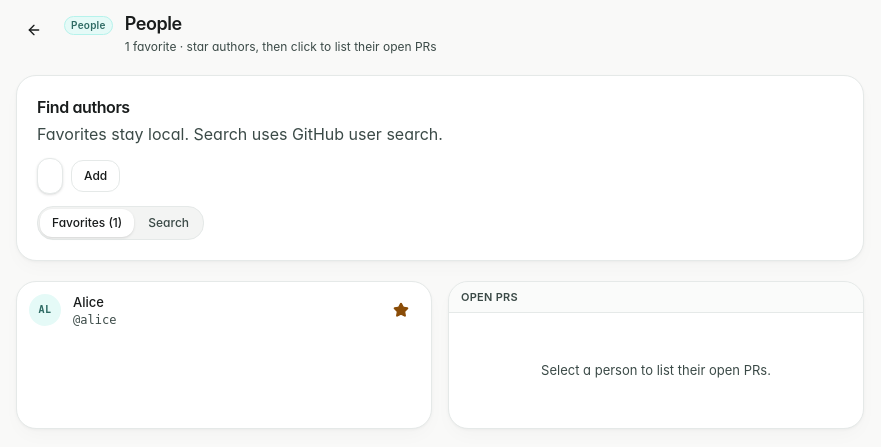
Scenario: PeoplePage › toggles favorite star on a person row
Click the button named "Remove favorite person" at (401, 310), box [383,292,419,328]
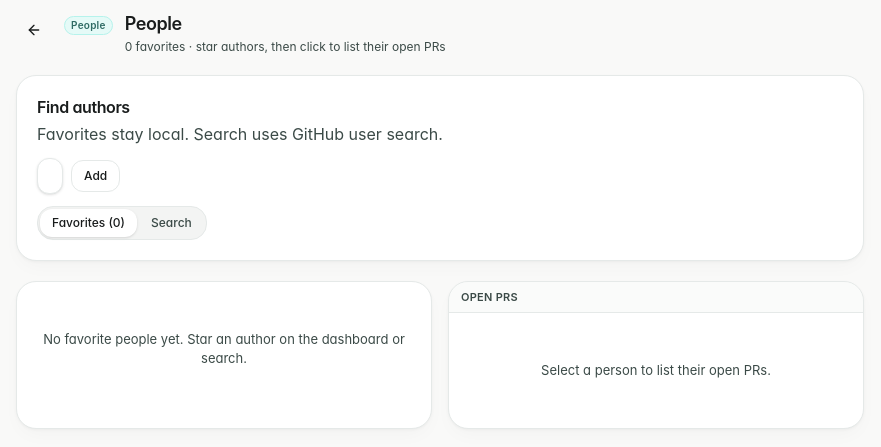
Check: the text "No favorite people yet" is shown, box [43,331,405,366]
